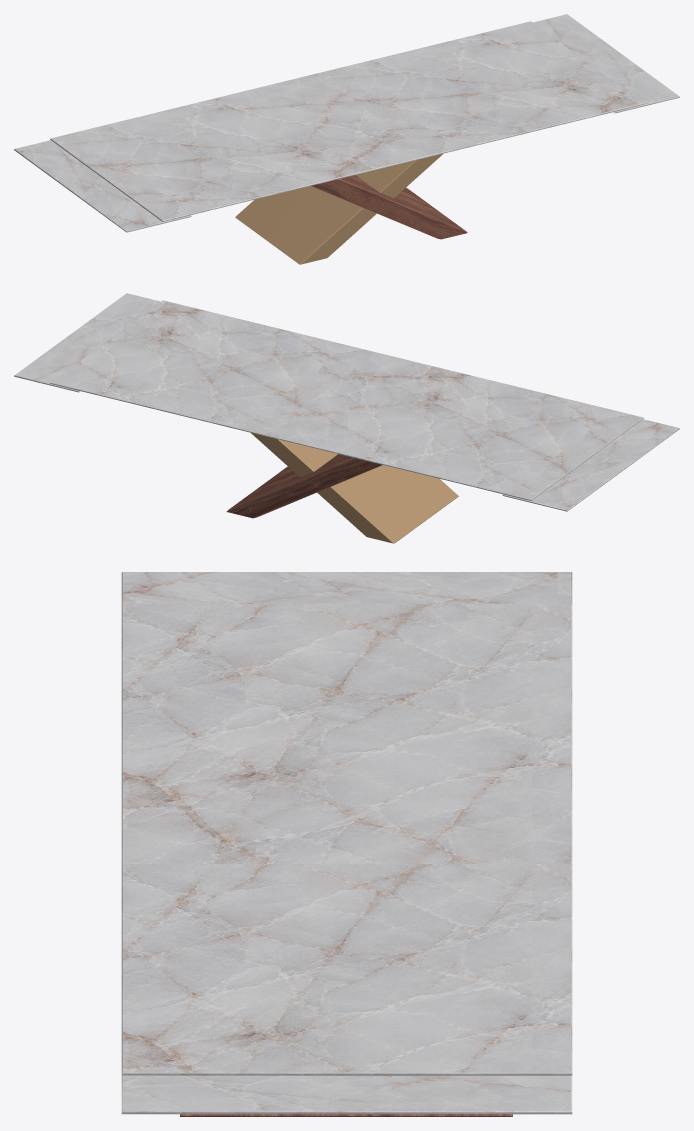
File: SBH_Excel.glb
3 views of the same model, one above another, from view 1: azimuth 30°, elevation 25°; view 2: azimuth 150°, elevation 25°; view 3: azimuth 270°, elevation 25° (orthographic). The views are drawn at different scales.
Parts seen in each view (by area): view 1: Excel; view 2: Excel; view 3: Excel.
Part boxes in pixels (x1,y1,x2,y2): Excel: [14, 14, 679, 264]; Excel: [14, 293, 679, 543]; Excel: [121, 572, 572, 1116].
Bounding box in the file's own units: 2.69 × 0.4687 × 0.9494.
Materials: 4 (2 with a texture image).
